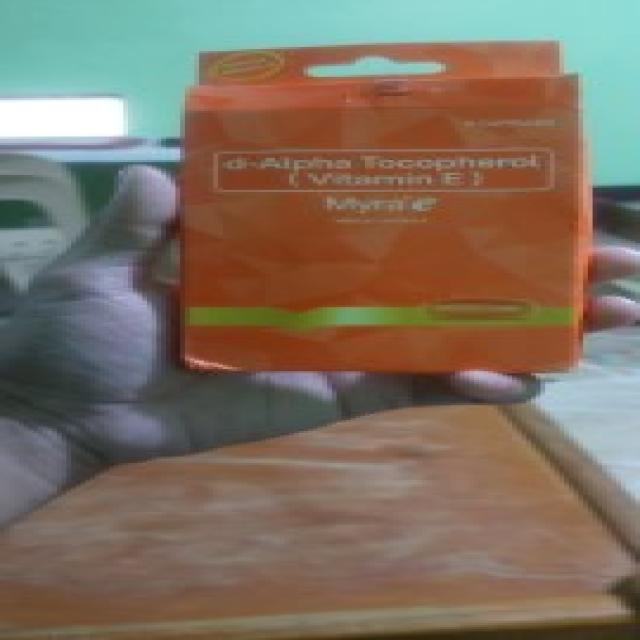Cacat: (183, 38, 581, 376)
